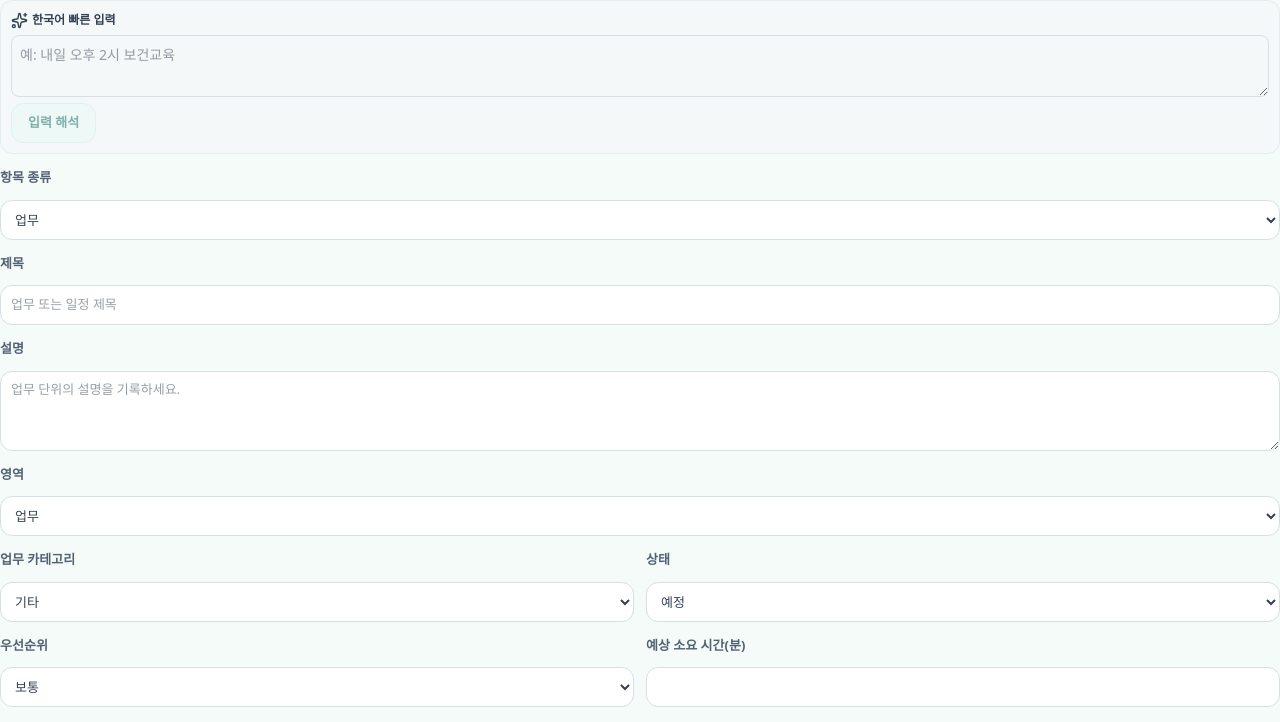
Test case: CreateItemForm Phase 5 workflows › previews Korean quick input before applying it to the form
Step 1. Type "내일 오후 2시 보건교육" into the text box with placeholder "예: 내일 오후 2시 보건교육" → (640, 66), box x1=11 y1=35 x2=1269 y2=97
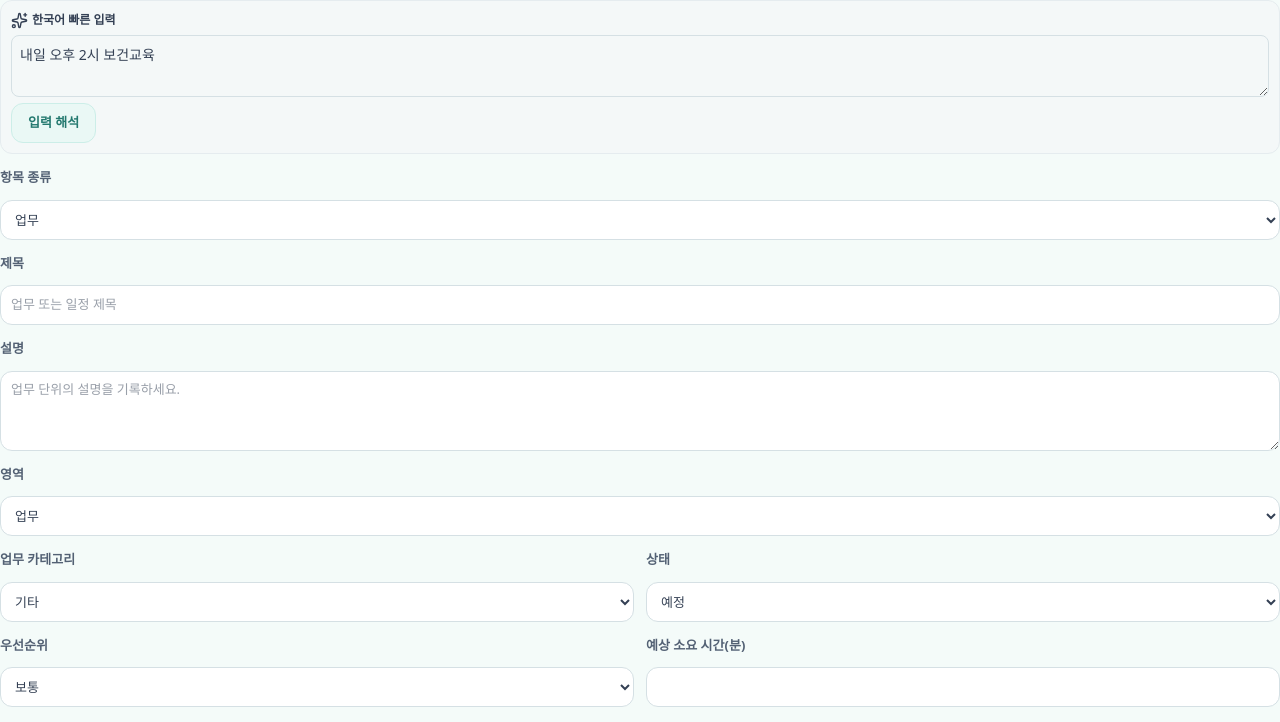
Step 2. Click the button "입력 해석" → click(54, 123), box x1=11 y1=103 x2=96 y2=143
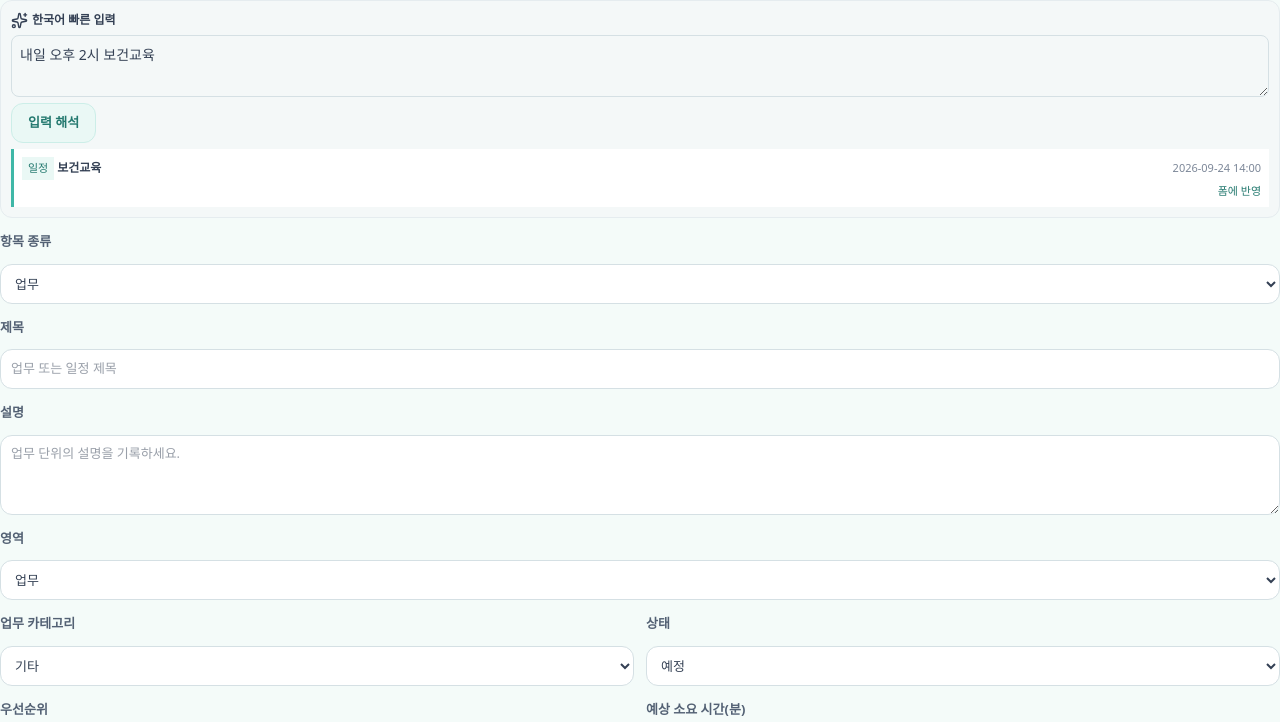
Expected: the field labelled "제목" is empty, x1=0 y1=349 x2=1279 y2=389
Step 3. Click the button "폼에 반영" → click(1239, 191), box x1=1218 y1=182 x2=1261 y2=199
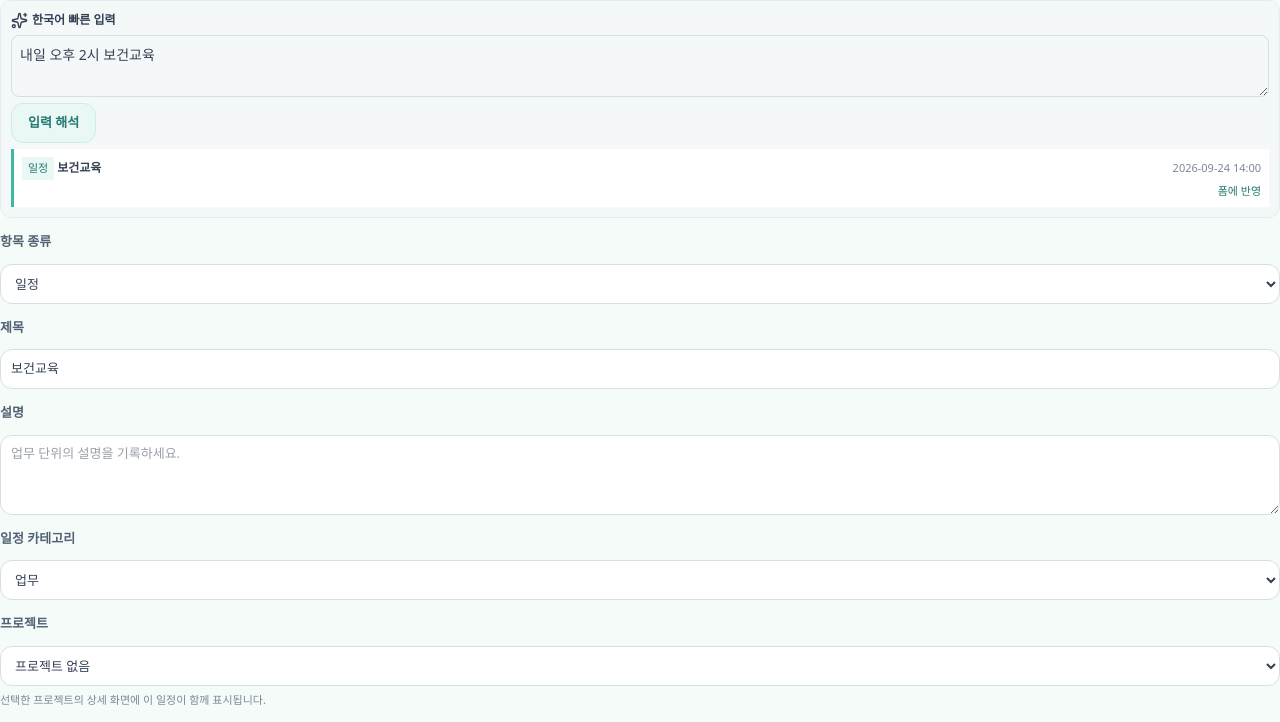
Expected: the field labelled "제목" holds "보건교육", x1=0 y1=349 x2=1279 y2=389
Expected: the dropdown labelled "항목 종류" shows "일정", x1=0 y1=264 x2=1279 y2=304
